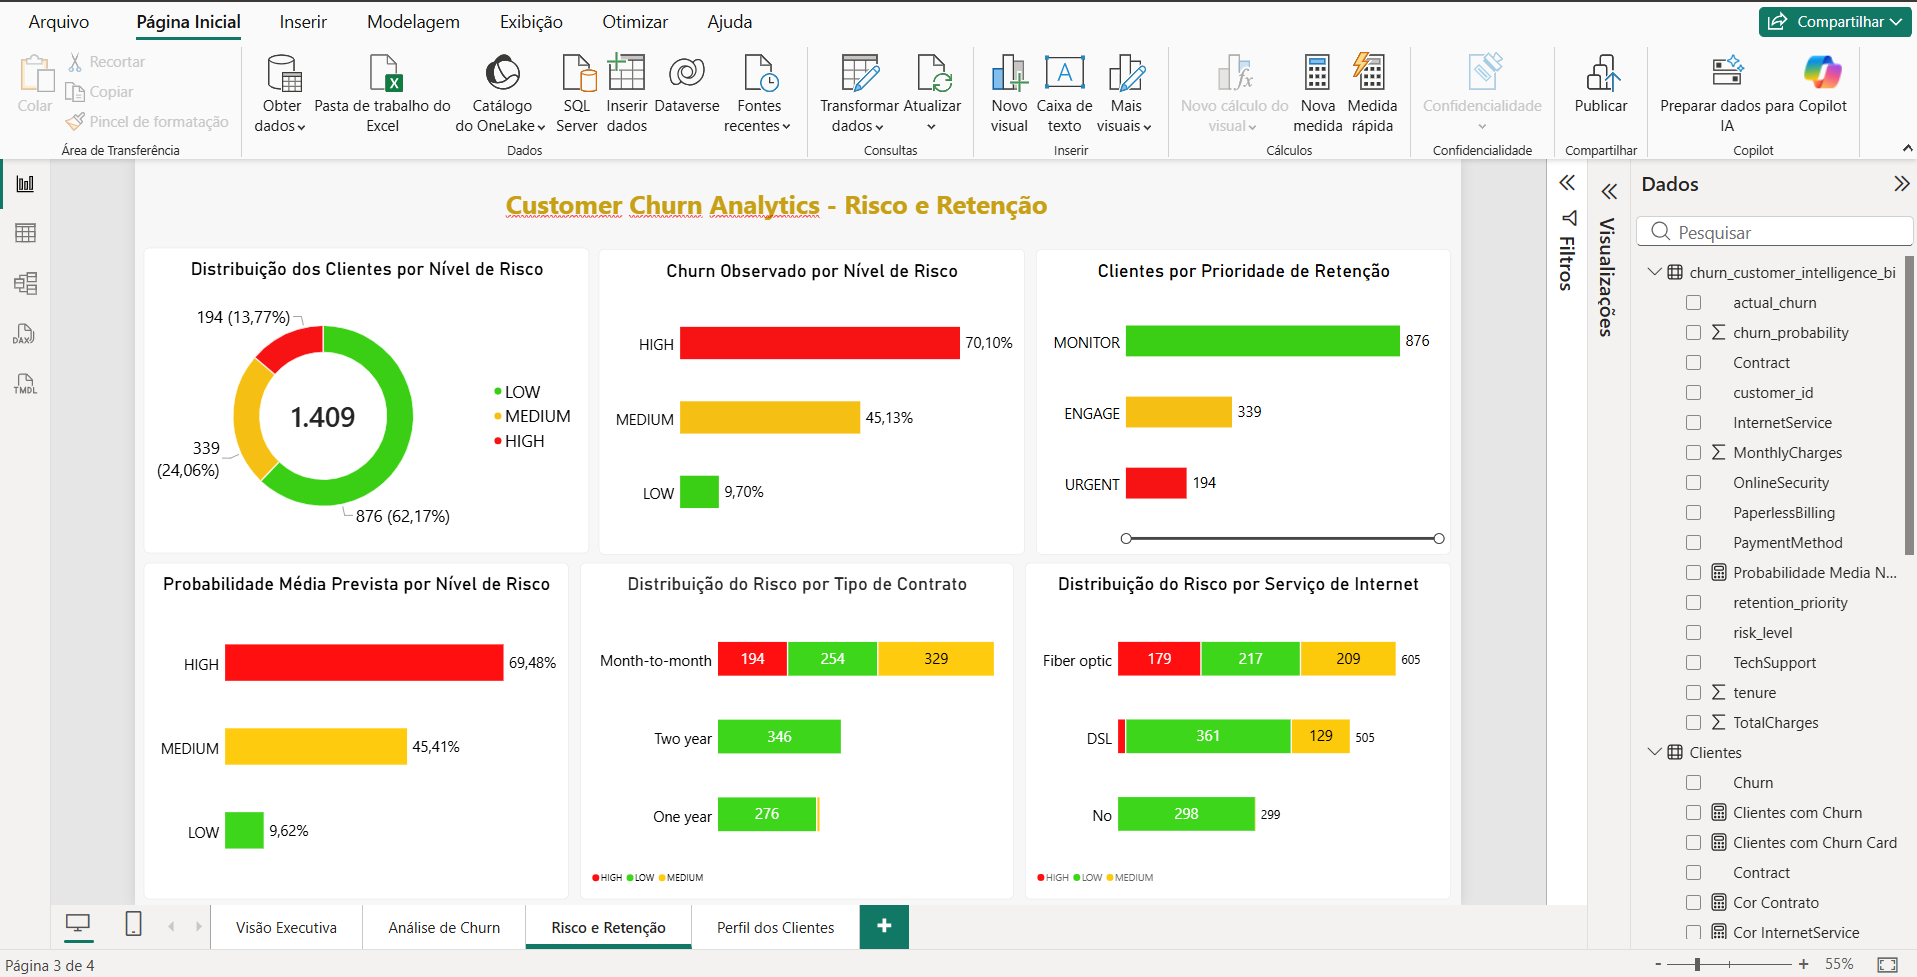

What the dashboard file says about the page in this screenshot:
{"tool":"powerbi","page":{"name":"Risco e Retenção","canvas":[1920,1080],"ordinal":2},"visuals":[{"type":"donutChart","title":"Distribuição dos Clientes por Nível de Risco","fields":{"Category":["RiscoRetencao.risk_level"],"Y":["CountNonNull(RiscoRetencao.customer_id)"]},"box":[13.2,127.9,645.1,442],"z":0},{"type":"clusteredBarChart","title":"Churn Observado por Nível de Risco","fields":{"Category":["RiscoRetencao.risk_level"],"Y":["RiscoRetencao.Churn Observado"]},"box":[671.5,129.8,616.9,442],"z":1000},{"type":"clusteredBarChart","title":"Clientes por Prioridade de Retenção","fields":{"Category":["RiscoRetencao.retention_priority"],"Y":["CountNonNull(RiscoRetencao.customer_id)"]},"box":[1305.3,129.8,600,442],"z":2000},{"type":"clusteredBarChart","title":"Probabilidade Média Prevista por Nível de Risco","fields":{"Category":["churn_customer_intelligence_bi.risk_level"],"Y":["churn_customer_intelligence_bi.Probabilidade Media Nova"]},"box":[13.2,585,615,487.1],"z":3000},{"type":"barChart","title":"Distribuição do Risco por Tipo de Contrato","fields":{"Category":["RiscoRetencao.Contract"],"Series":["RiscoRetencao.risk_level"],"Y":["CountNonNull(RiscoRetencao.customer_id)"]},"box":[645.1,585,628.2,487.1],"z":4000},{"type":"barChart","title":"Distribuição do Risco por Serviço de Internet","fields":{"Category":["RiscoRetencao.InternetService"],"Series":["RiscoRetencao.risk_level"],"Y":["CountNonNull(RiscoRetencao.customer_id)"]},"box":[1288.4,585,616.9,487.1],"z":5000},{"type":"textbox","box":[507.8,48.9,840.8,60.2],"z":5001}]}

Visuals, with their boxes on the page's 1920x1080 design canvas (x1, y1, x2, y2). These are canvas units, not pixel positions in the 1917x977 screenshot, which may show the page scaled, cropped or inside an application window:
"Distribuição dos Clientes por Nível de Risco" donutChart: select_region(13, 128, 658, 570)
"Churn Observado por Nível de Risco" clusteredBarChart: select_region(672, 130, 1288, 572)
"Clientes por Prioridade de Retenção" clusteredBarChart: select_region(1305, 130, 1905, 572)
"Probabilidade Média Prevista por Nível de Risco" clusteredBarChart: select_region(13, 585, 628, 1072)
"Distribuição do Risco por Tipo de Contrato" barChart: select_region(645, 585, 1273, 1072)
"Distribuição do Risco por Serviço de Internet" barChart: select_region(1288, 585, 1905, 1072)
textbox: select_region(508, 49, 1349, 109)
